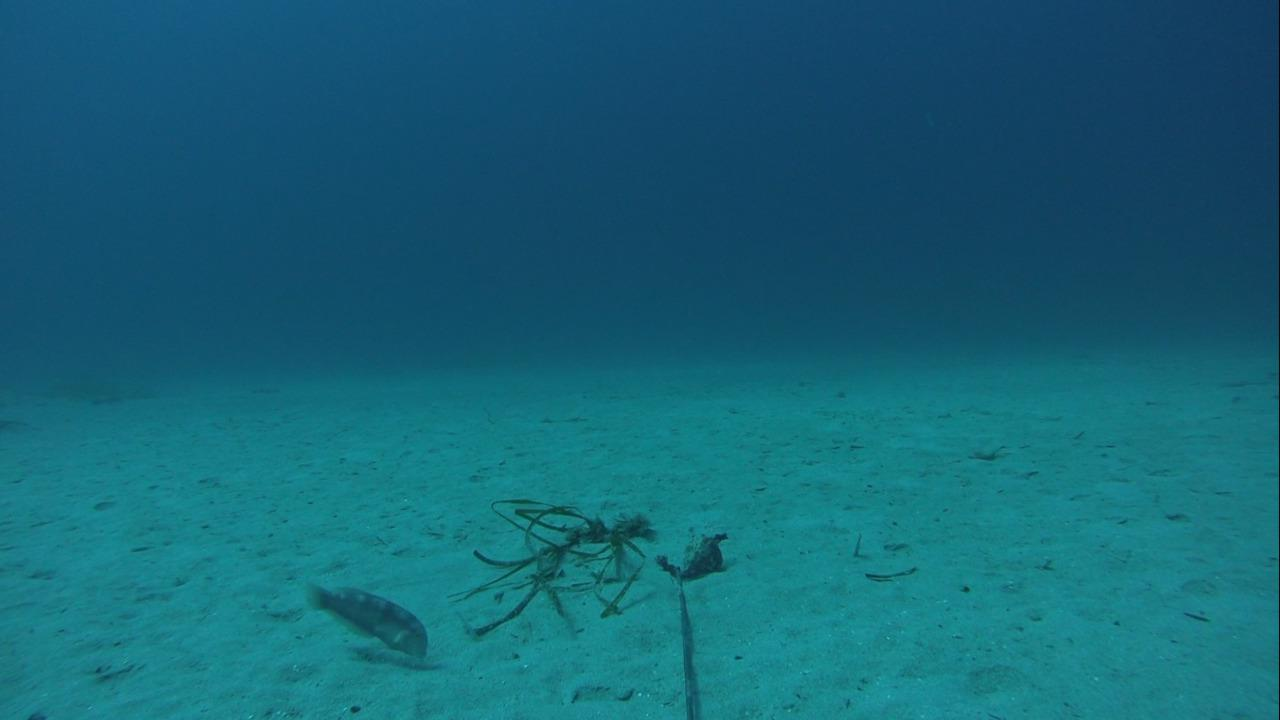raor: (300, 577, 433, 668)
